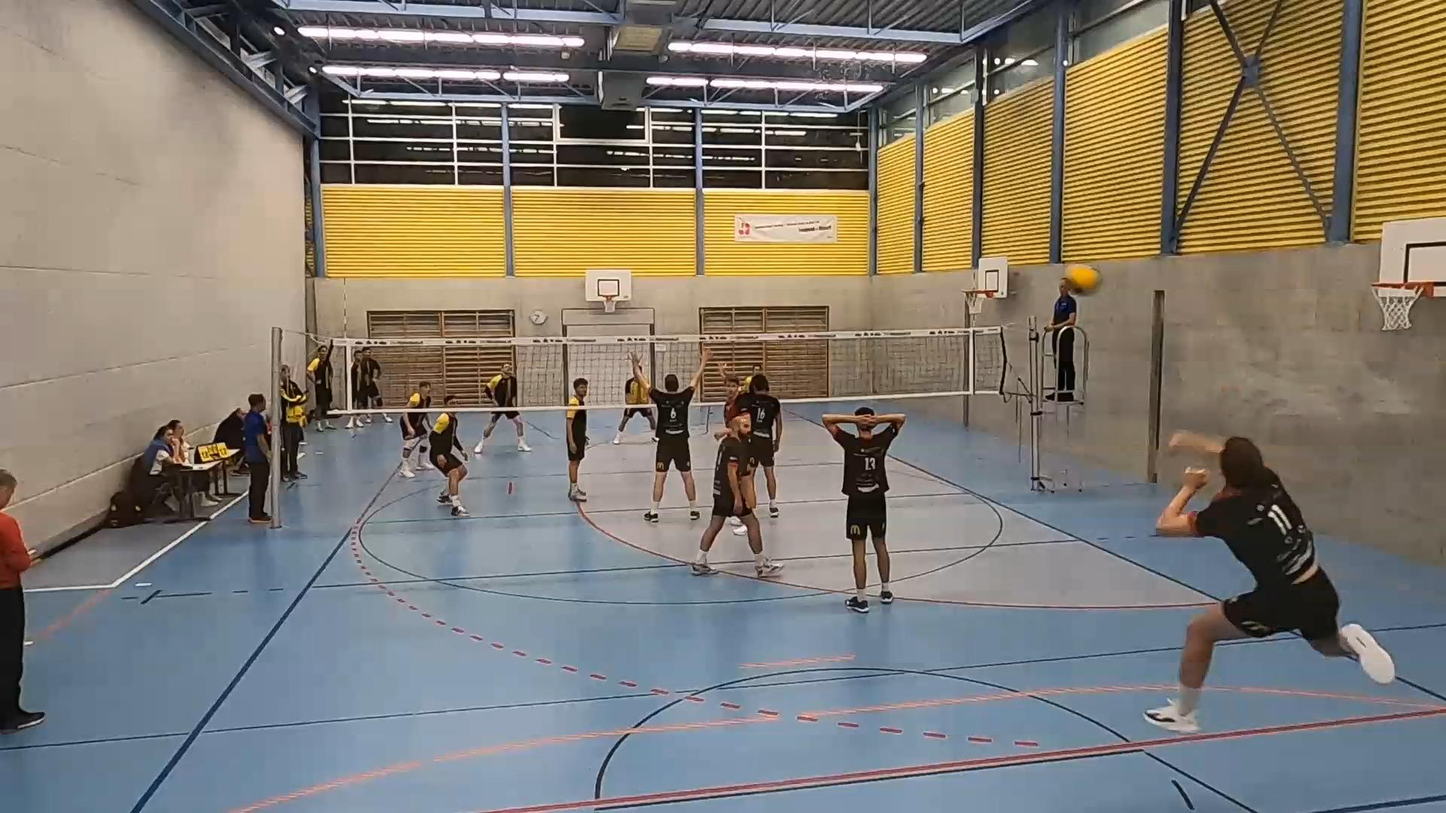battuta: (1144, 427, 1418, 737)
